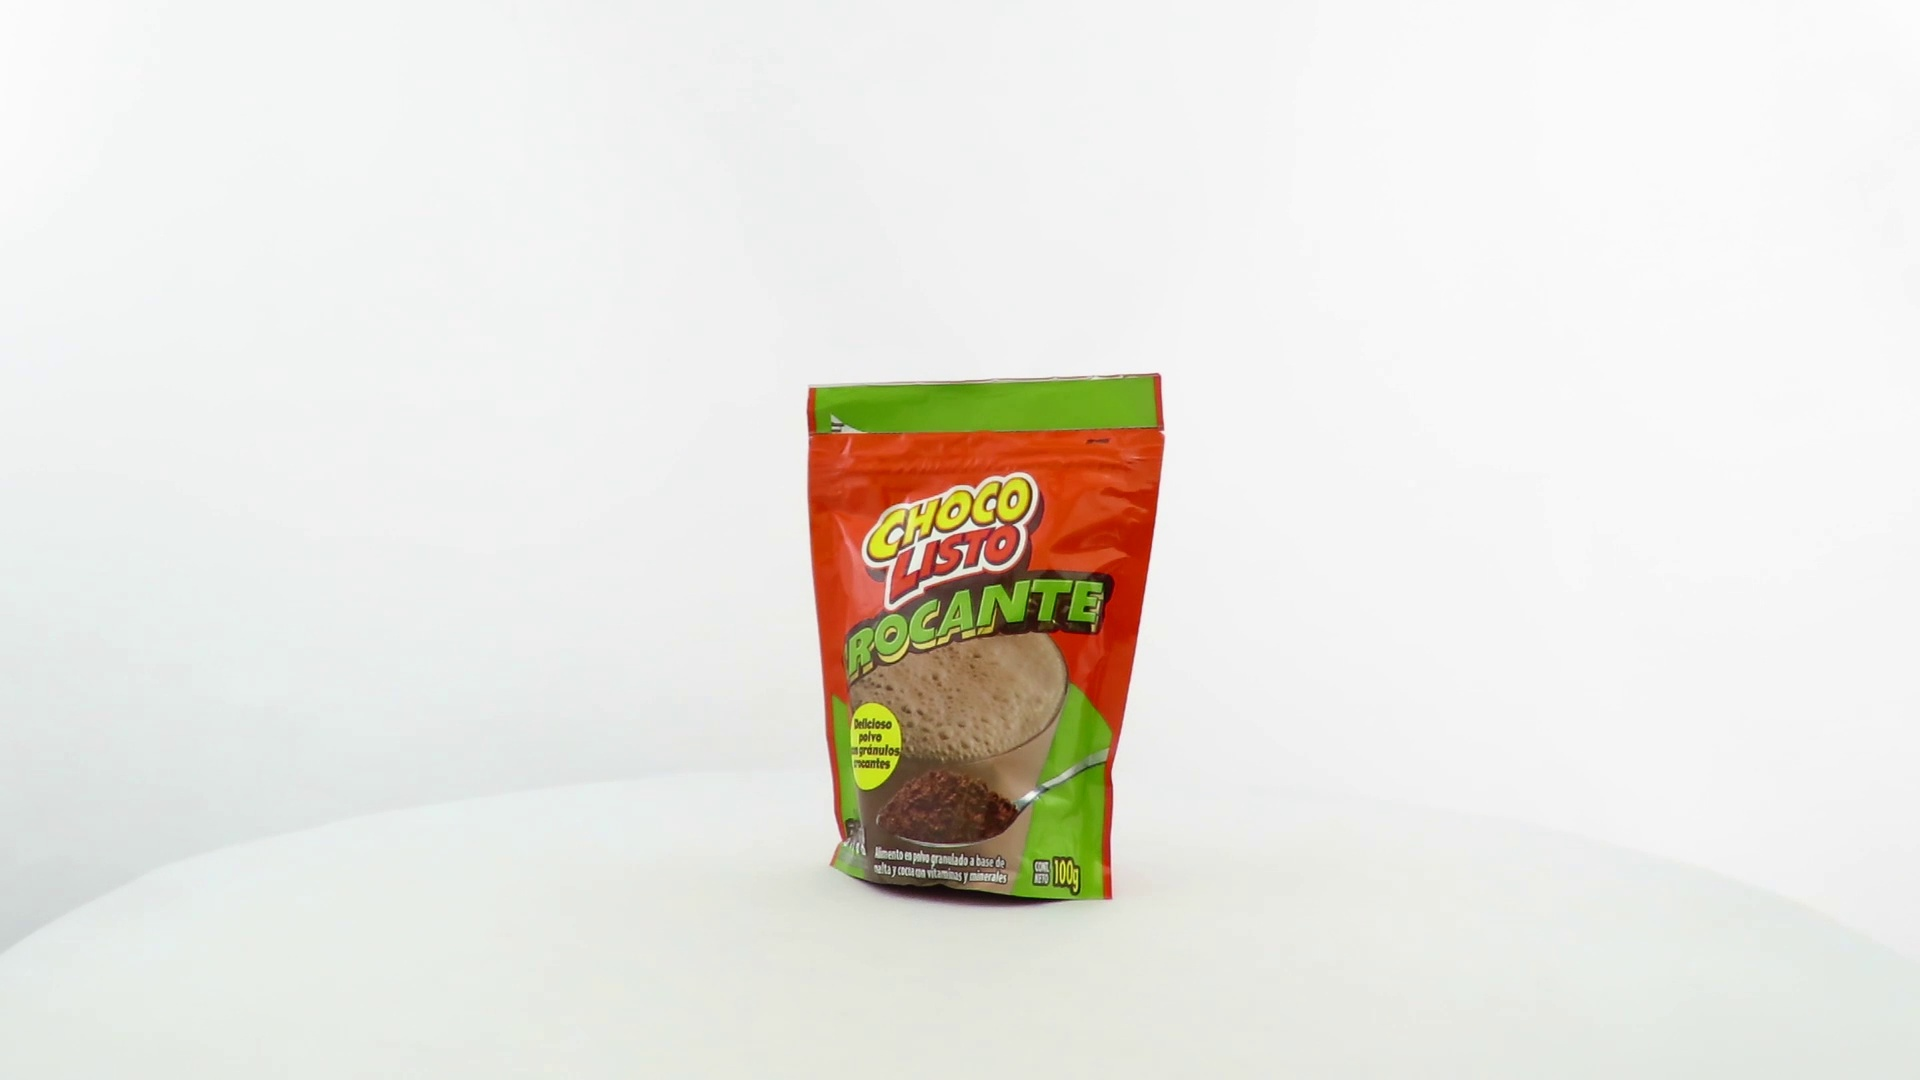COL0170102DYP10000: (800, 367, 1171, 914)
